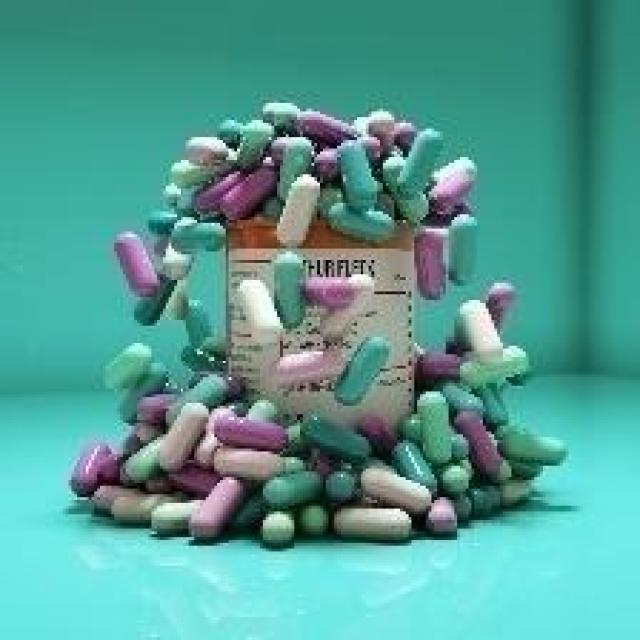Medicine: (58, 85, 578, 573)
